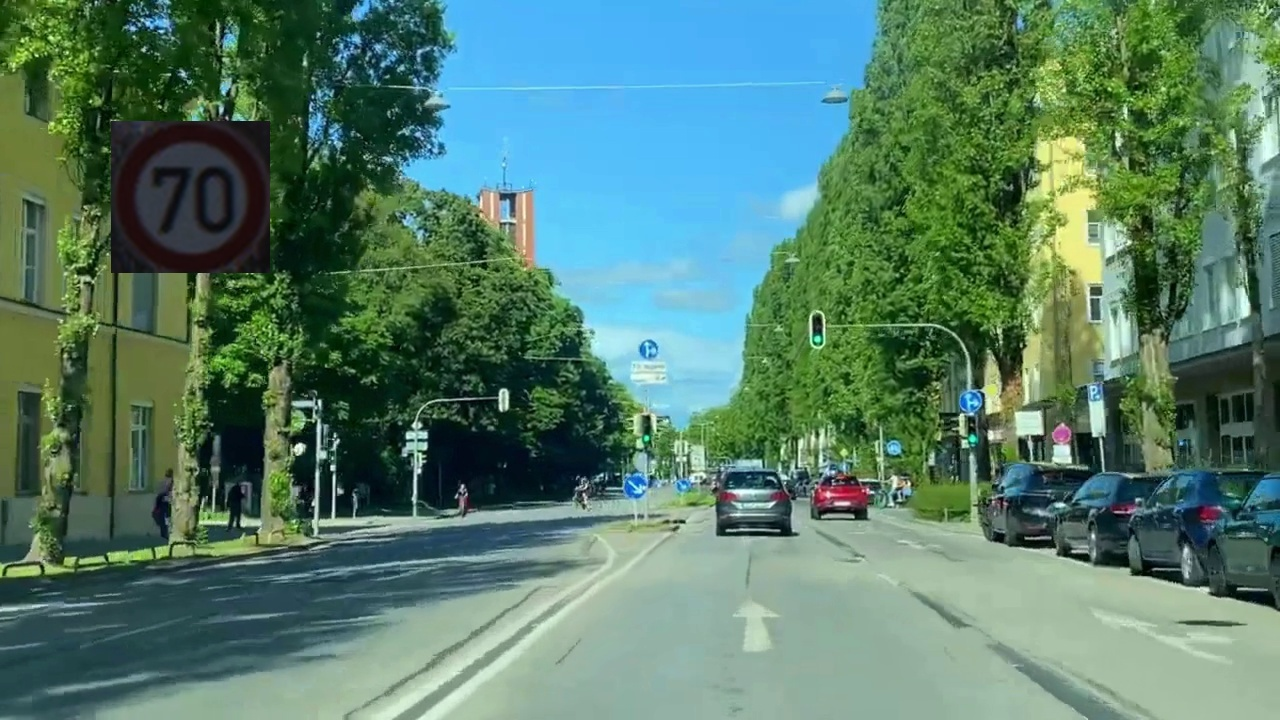Speed 70: (111, 121, 270, 273)
